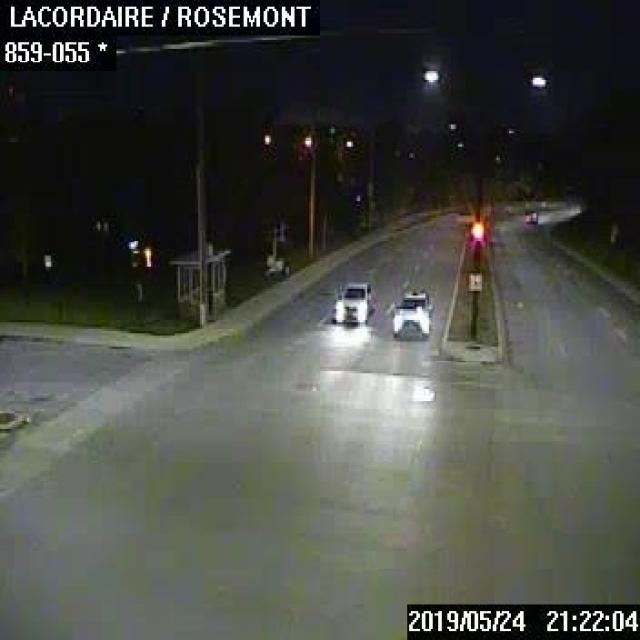construction: (260, 210, 291, 274)
vehicle: (391, 290, 432, 336), (332, 282, 374, 322), (523, 209, 536, 222)
